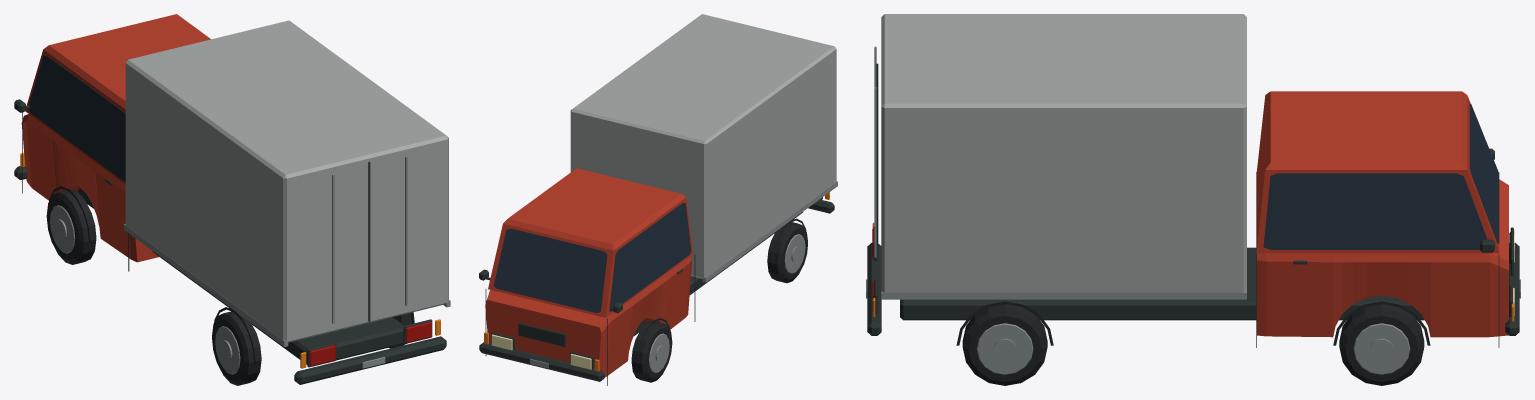
File: 13_BoxTruck.fbx
The picture shows the model from 3 angles, left to right: view 1: azimuth 30°, elevation 25°; view 2: azimuth 150°, elevation 25°; view 3: azimuth 270°, elevation 25°; orthographic projection. The views are drawn at different scales.
Parts seen in each view (by area): view 1: Box body with edge chamfer.001, Continuous body with open wheel arches.013, Raked cabin with chamfered roof.012, Side glass -1 pane 0.011, Truck chassis.002, Moulded bumper.025, WheelFL_ShapedSidewall.012, WheelRL_ShapedSidewall.012, Cargo lower frame.002, WheelRL_Rim.012, WheelFL_Rim.012, Rear door central seam.001 (+4 smaller); view 2: Box body with edge chamfer.001, Raked cabin with chamfered roof.012, Continuous body with open wheel arches.013, Framed opaque windshield.012, Side glass -1 pane 0.011, WheelFL_ShapedSidewall.012, WheelRL_ShapedSidewall.012, Moulded bumper.024, Cargo lower frame.002, Inset radiator grille.012, WheelFL_Rim.012, WheelRL_Rim.012 (+1 smaller); view 3: Box body with edge chamfer.001, Raked cabin with chamfered roof.012, Continuous body with open wheel arches.013, Side glass 1 pane 0.011, Truck chassis.002, WheelFR_ShapedSidewall.012, WheelRR_ShapedSidewall.012, Cargo lower frame.003, Framed opaque windshield.012, WheelFR_Rim.012, WheelRR_Rim.012, Moulded bumper.025 (+2 smaller).
Part boxes in pixels (<box>): Box body with edge chamfer.001: <box>125,20,448,342</box>; Continuous body with open wheel arches.013: <box>21,114,158,262</box>; Raked cabin with chamfered roof.012: <box>25,14,210,184</box>; Side glass -1 pane 0.011: <box>28,55,125,181</box>; Truck chassis.002: <box>78,187,404,364</box>; Moulded bumper.025: <box>294,336,446,384</box>; WheelFL_ShapedSidewall.012: <box>46,189,96,264</box>; WheelRL_ShapedSidewall.012: <box>212,311,261,385</box>; Cargo lower frame.002: <box>124,223,288,346</box>; WheelRL_Rim.012: <box>215,326,240,374</box>; WheelFL_Rim.012: <box>50,205,75,253</box>; Rear door central seam.001: <box>368,161,370,321</box>; Box body with edge chamfer.001: <box>570,14,836,278</box>; Raked cabin with chamfered roof.012: <box>488,168,692,317</box>; Continuous body with open wheel arches.013: <box>485,256,692,377</box>; Framed opaque windshield.012: <box>493,228,607,312</box>; Side glass -1 pane 0.011: <box>609,203,691,311</box>; WheelFL_ShapedSidewall.012: <box>631,320,672,382</box>; WheelRL_ShapedSidewall.012: <box>767,222,807,283</box>; Moulded bumper.024: <box>479,342,604,381</box>; Cargo lower frame.002: <box>702,181,837,282</box>; Inset radiator grille.012: <box>518,322,565,346</box>; WheelFL_Rim.012: <box>649,333,669,373</box>; WheelRL_Rim.012: <box>784,234,805,273</box>; Box body with edge chamfer.001: <box>881,14,1246,292</box>; Raked cabin with chamfered roof.012: <box>1256,91,1498,253</box>; Continuous body with open wheel arches.013: <box>1256,179,1508,337</box>; Side glass 1 pane 0.011: <box>1263,173,1487,249</box>; Truck chassis.002: <box>900,247,1424,320</box>; WheelFR_ShapedSidewall.012: <box>1339,304,1424,385</box>; WheelRR_ShapedSidewall.012: <box>962,304,1047,385</box>; Cargo lower frame.003: <box>881,291,1246,299</box>; Framed opaque windshield.012: <box>1469,103,1499,243</box>; WheelFR_Rim.012: <box>1353,323,1410,374</box>; WheelRR_Rim.012: <box>976,323,1033,374</box>; Moulded bumper.025: <box>867,242,881,335</box>.
Size of the model in its own units: 239 by 322 by 680.
